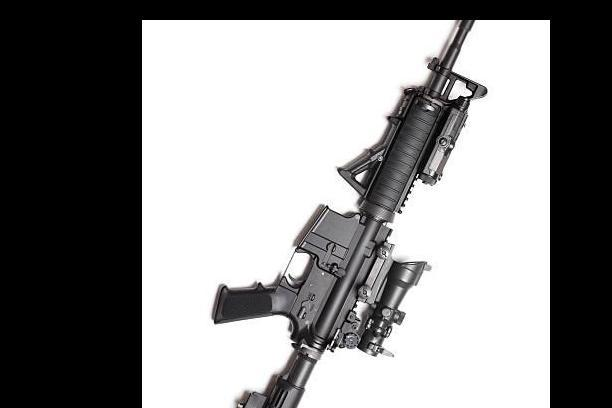larga: (213, 20, 488, 408)
